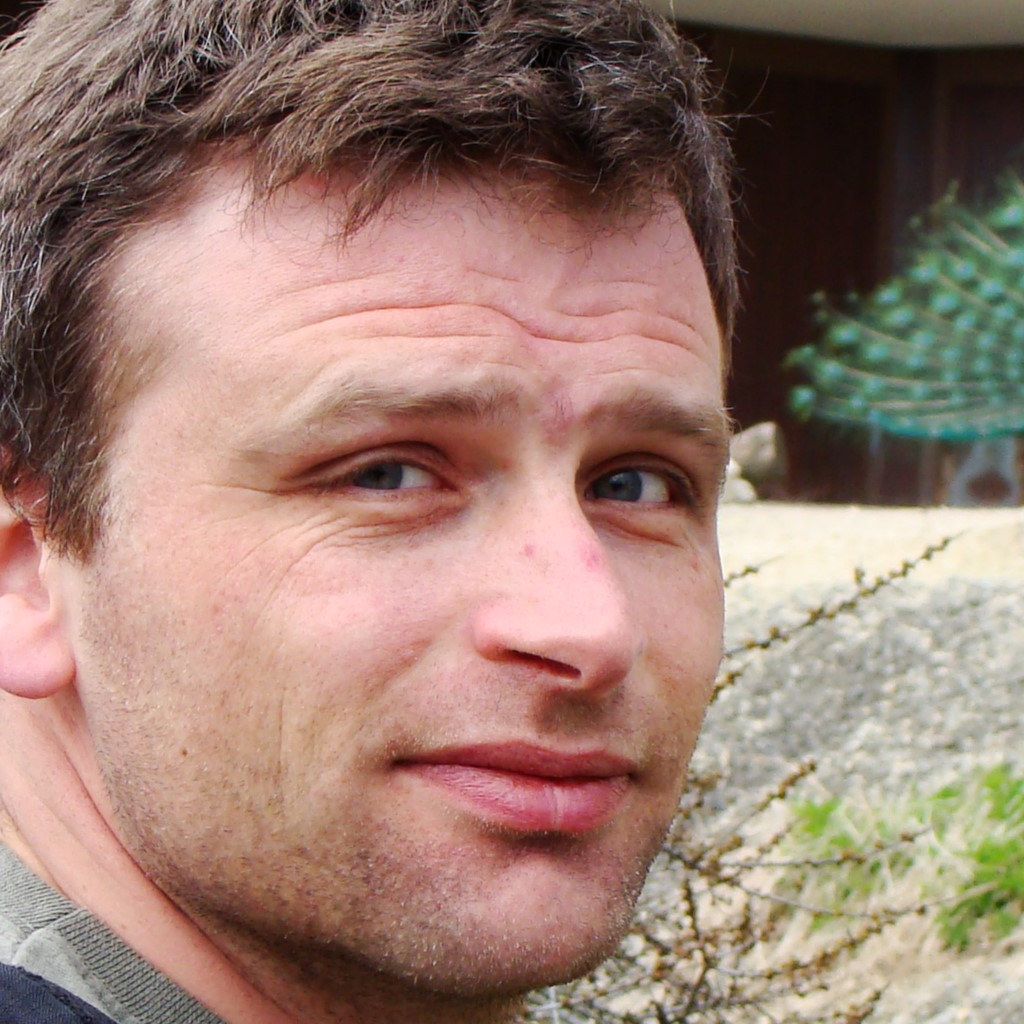sin_mascara: (35, 49, 735, 994)
